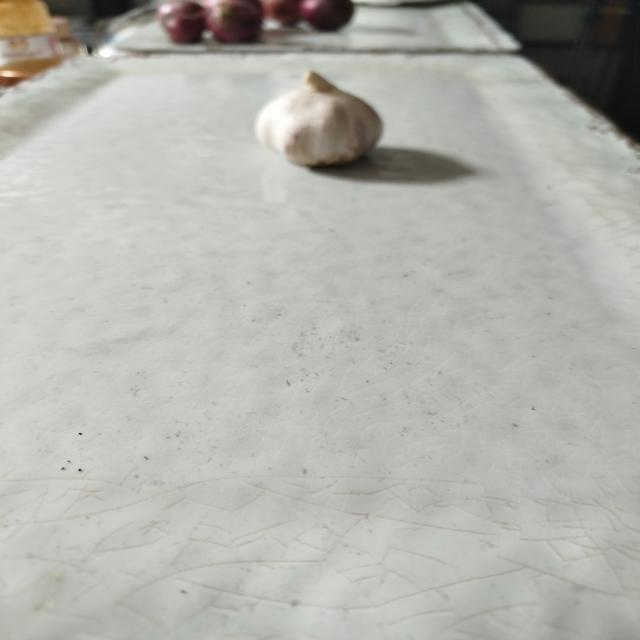garlic: (254, 70, 384, 168)
